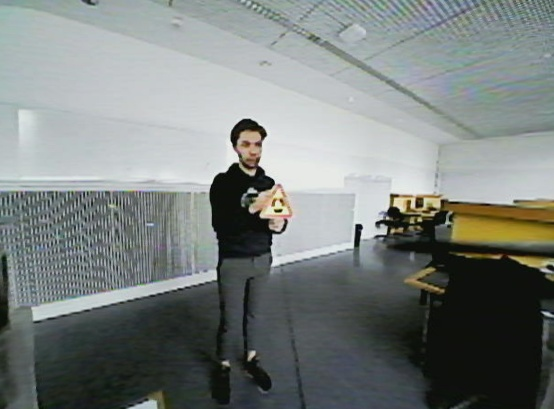roundabout_warning: (253, 181, 301, 222)
